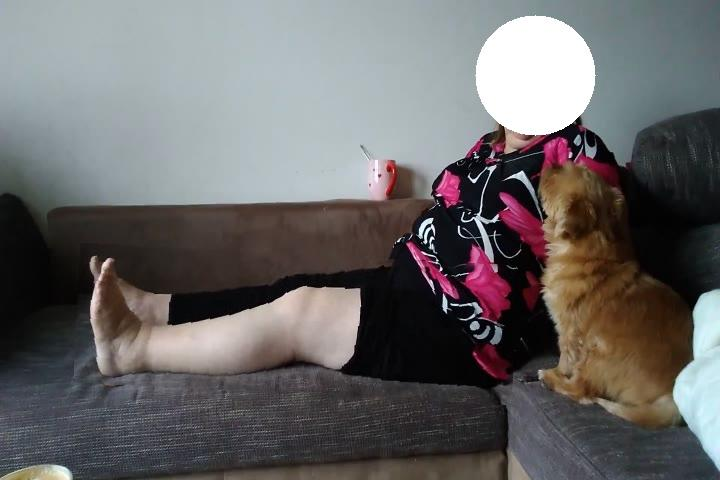lowerbody: (75, 249, 518, 401)
